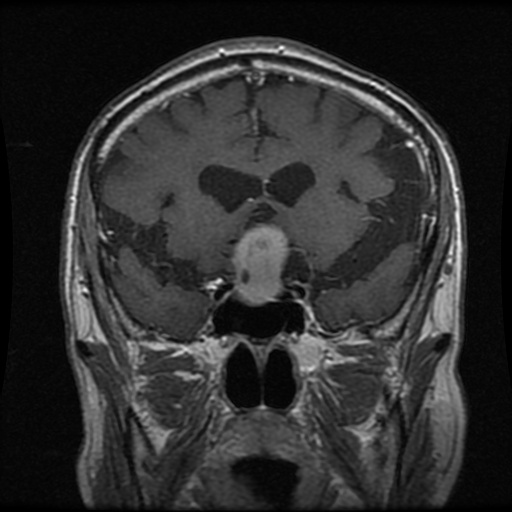pituitary: (233, 223, 289, 304)
